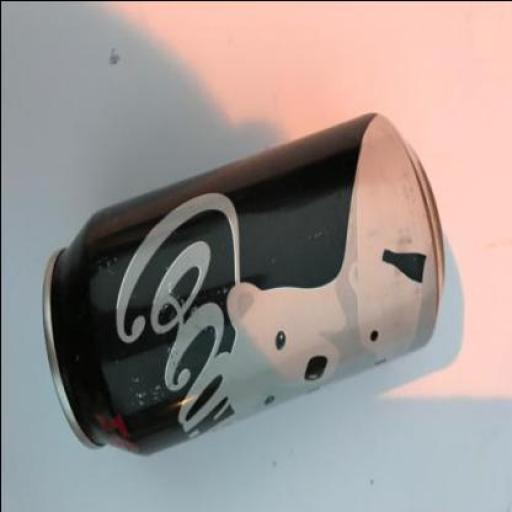metal: (42, 110, 445, 454)
